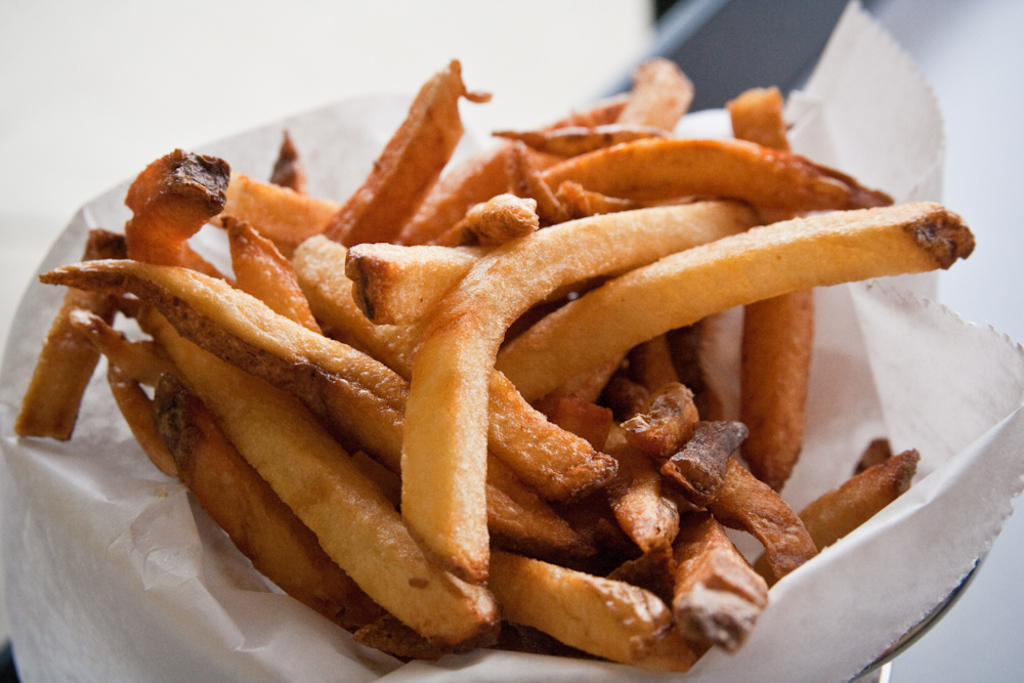French fries: (31, 36, 953, 648)
